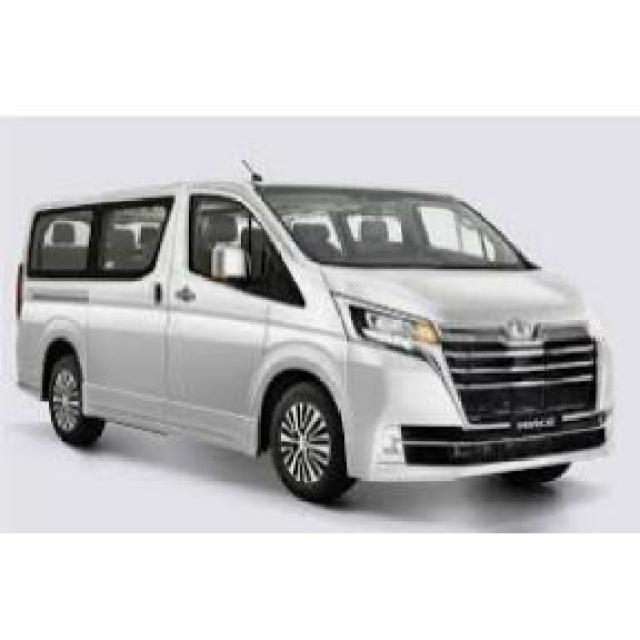Van: (17, 166, 617, 503)
